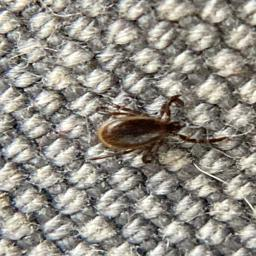Ixodes scapularis: (83, 115, 221, 167)
